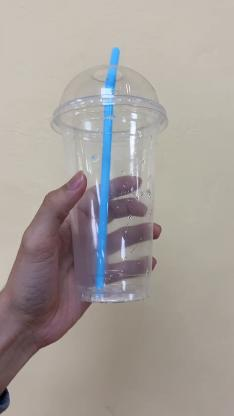Plastic Cup: (49, 61, 169, 302)
